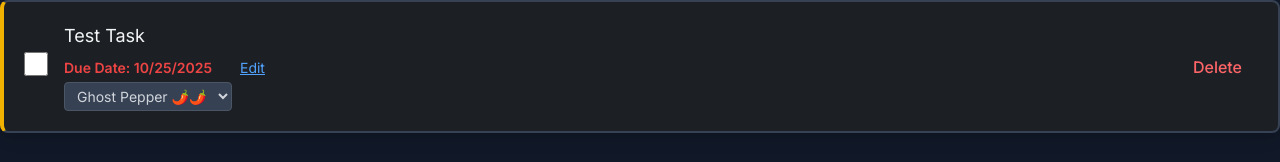
Test: TaskItem › allows editing due date
Step 1. Click the button "Edit" → point(252, 68), box [240,58,265,78]
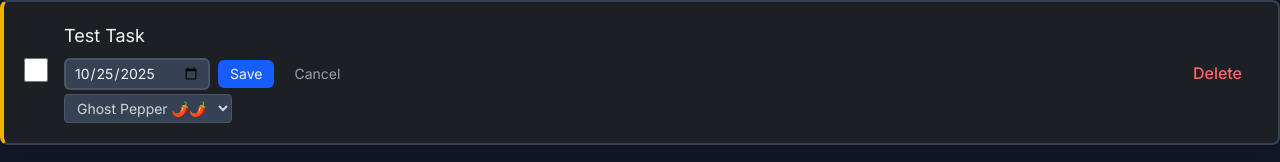
Check: the date field showing "2025-10-25" is shown, box [64,58,210,90]
Check: the button "Save" is shown, box [218,60,274,88]
Check: the button "Cancel" is shown, box [282,60,352,88]
